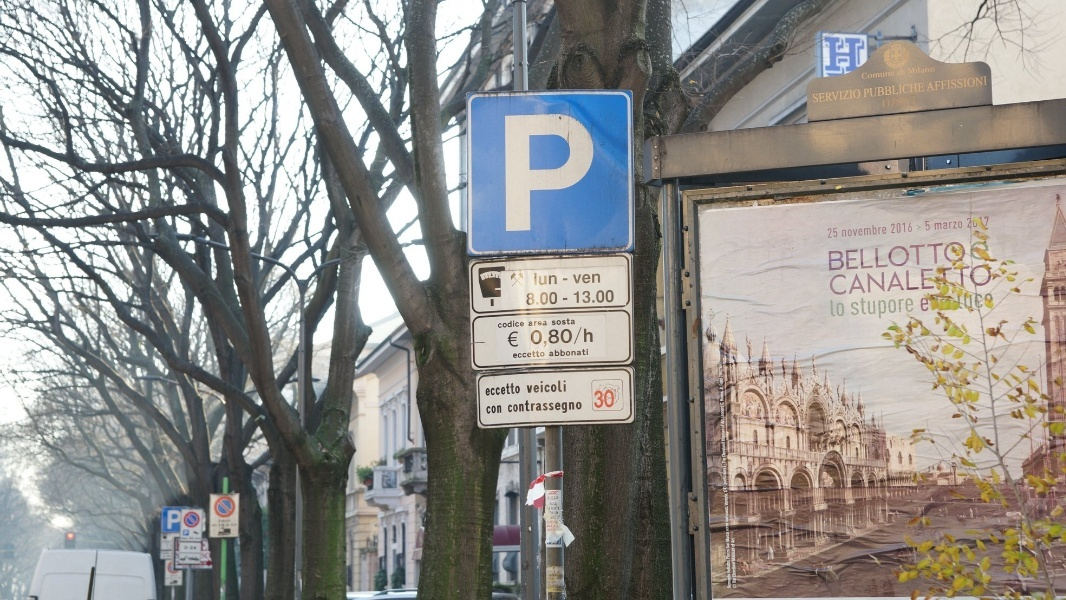text: (513, 113, 528, 232), (529, 113, 544, 232), (545, 113, 560, 232), (561, 113, 576, 232), (577, 113, 592, 232), (503, 113, 512, 232), (547, 491, 560, 545), (833, 34, 848, 80), (849, 34, 864, 80), (977, 240, 993, 273), (833, 240, 848, 273), (849, 240, 864, 273), (865, 240, 880, 273), (881, 240, 896, 273), (897, 240, 912, 273), (913, 240, 928, 273), (929, 240, 944, 273), (945, 240, 960, 273), (961, 240, 976, 273), (833, 265, 848, 298), (849, 265, 864, 298), (865, 265, 880, 298), (881, 265, 896, 298), (897, 265, 912, 298), (913, 265, 928, 298), (929, 265, 944, 298), (945, 265, 960, 298), (961, 265, 976, 298), (977, 265, 992, 298), (822, 34, 832, 80), (865, 297, 880, 322), (881, 297, 896, 322), (897, 297, 912, 322), (851, 297, 864, 322), (977, 293, 993, 312), (577, 326, 592, 345), (929, 293, 944, 312), (945, 293, 960, 312), (961, 293, 976, 312), (833, 299, 847, 319), (865, 82, 880, 99), (881, 82, 896, 99), (897, 82, 912, 99), (945, 76, 960, 93), (961, 76, 976, 93), (513, 399, 528, 415), (529, 399, 544, 415), (545, 399, 560, 415), (561, 399, 576, 415), (930, 76, 944, 93), (593, 113, 595, 232), (595, 390, 608, 408), (817, 89, 832, 104), (833, 89, 848, 104), (561, 329, 575, 345), (913, 82, 926, 99), (977, 76, 990, 93), (531, 330, 544, 347), (166, 510, 176, 532), (897, 96, 912, 110), (545, 272, 560, 286), (529, 292, 544, 306), (577, 290, 592, 304), (593, 290, 608, 304), (497, 382, 512, 396), (529, 380, 544, 394), (545, 380, 560, 394), (849, 225, 864, 239), (865, 225, 880, 239), (882, 96, 896, 110), (849, 89, 862, 104), (897, 223, 912, 236), (977, 216, 992, 229), (865, 34, 869, 80), (545, 292, 558, 306), (913, 65, 928, 76), (577, 273, 592, 284), (945, 221, 960, 232), (550, 329, 560, 345), (533, 272, 544, 286), (177, 510, 184, 532), (865, 70, 880, 80), (881, 70, 896, 80), (561, 318, 577, 327), (583, 328, 592, 344), (486, 382, 496, 396), (921, 293, 928, 312), (828, 240, 832, 273), (529, 350, 545, 358), (529, 320, 544, 328), (513, 350, 528, 358), (561, 349, 576, 357), (967, 216, 976, 229), (498, 321, 512, 329), (513, 382, 521, 396), (486, 404, 496, 415), (934, 221, 944, 232), (513, 321, 526, 329), (513, 331, 519, 348), (929, 65, 938, 76), (829, 265, 832, 298), (609, 290, 616, 304), (881, 225, 888, 239), (898, 69, 912, 76), (577, 349, 589, 357), (225, 519, 237, 527), (833, 227, 840, 240), (609, 390, 614, 408), (593, 273, 601, 284), (213, 519, 224, 527), (561, 380, 567, 394), (842, 225, 848, 239), (916, 225, 928, 232), (550, 349, 560, 357), (577, 399, 582, 415), (913, 297, 916, 322), (552, 318, 560, 327), (913, 96, 918, 110), (508, 331, 512, 348), (497, 404, 503, 415), (563, 277, 576, 282), (563, 297, 576, 302), (827, 227, 832, 240), (891, 223, 896, 236), (812, 89, 816, 104), (509, 399, 512, 415), (924, 220, 928, 232), (908, 65, 912, 76), (830, 299, 832, 319), (929, 220, 932, 232), (573, 273, 576, 284), (961, 221, 964, 232), (993, 265, 994, 298), (545, 320, 549, 328), (593, 328, 595, 344), (526, 292, 528, 306), (574, 290, 576, 304), (526, 380, 528, 394), (545, 340, 548, 348), (913, 223, 914, 236), (863, 70, 864, 80)
